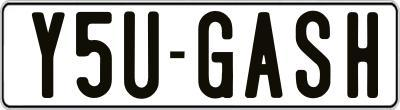5: (73, 10, 111, 97)
A: (243, 11, 285, 102)
G: (197, 8, 233, 96)
H: (344, 12, 377, 102)
S: (296, 8, 333, 100)
U: (121, 9, 159, 102)
Y: (29, 12, 64, 99)
